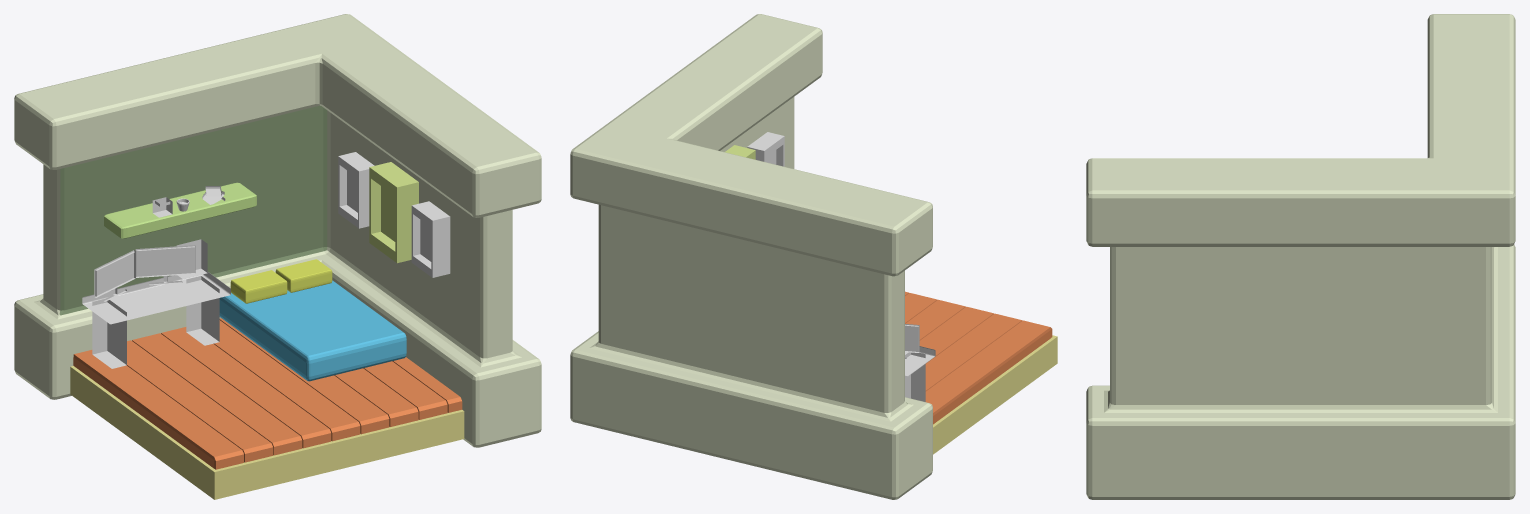
The picture shows the model from 3 angles, left to right: view 1: azimuth 30°, elevation 25°; view 2: azimuth 150°, elevation 25°; view 3: azimuth 270°, elevation 25°; orthographic projection. The views are drawn at different scales.
Visible parts, largest first — view 1: Cube, Plane.002, Cube.005, Plane.003, Cube.001, Plane.008, Cube.004, Cube.003, Cube.002, Plane.010, Plane.001, Plane.007 (+4 smaller); view 2: Cube, Plane.002, Cube.005, Cube.003, Plane.001; view 3: Cube.
Part boxes in pixels (x1,y1,x2,y2): Cube: [14, 14, 541, 447]; Plane.002: [73, 318, 462, 469]; Cube.005: [70, 366, 464, 499]; Plane.003: [219, 280, 406, 381]; Cube.001: [369, 162, 418, 263]; Plane.008: [82, 272, 230, 324]; Cube.004: [104, 182, 256, 238]; Cube.003: [411, 201, 450, 277]; Cube.002: [338, 152, 374, 228]; Plane.010: [135, 245, 195, 285]; Plane.001: [92, 299, 126, 368]; Plane.007: [186, 276, 219, 345]; Cube: [570, 14, 932, 499]; Plane.002: [905, 291, 1052, 424]; Cube.005: [933, 335, 1057, 454]; Cube.003: [747, 132, 784, 166]; Plane.001: [905, 352, 925, 401]; Cube: [1086, 14, 1515, 499].
Bounding box in the file's own units: 2.51 × 2 × 2.51.
